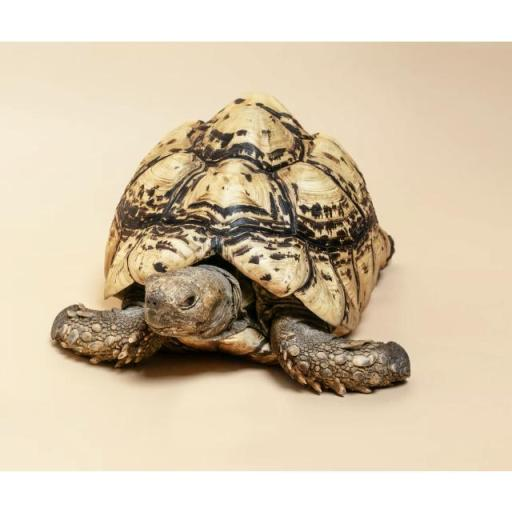turtles: (51, 94, 410, 395)
